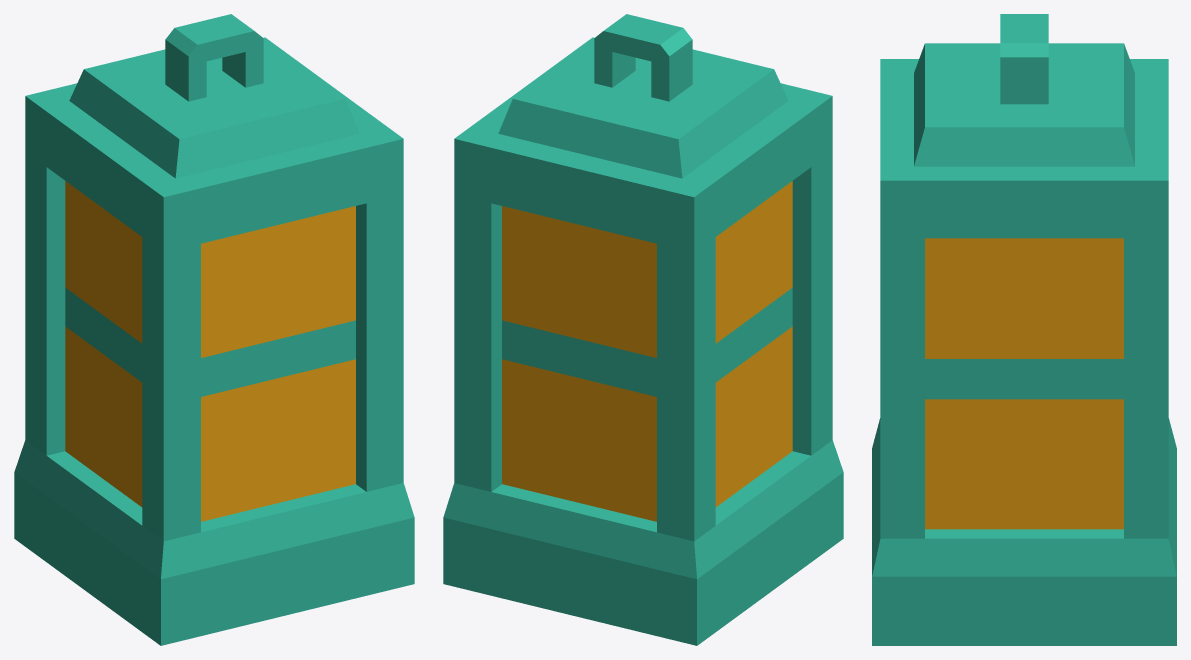
Rendered from lanternGlass.dae.
The picture shows the model from 3 angles, left to right: view 1: azimuth 30°, elevation 25°; view 2: azimuth 150°, elevation 25°; view 3: azimuth 270°, elevation 25°; orthographic projection. The views are drawn at different scales.
Visible parts, largest first — view 1: lanternGlass; view 2: lanternGlass; view 3: lanternGlass.
Part boxes in pixels (left/top/right/bottom): lanternGlass: left=14, top=14, right=414, bottom=645; lanternGlass: left=443, top=14, right=843, bottom=645; lanternGlass: left=872, top=14, right=1176, bottom=645.
Bounding box in the file's own units: 0.1459 × 0.2923 × 0.1459.
